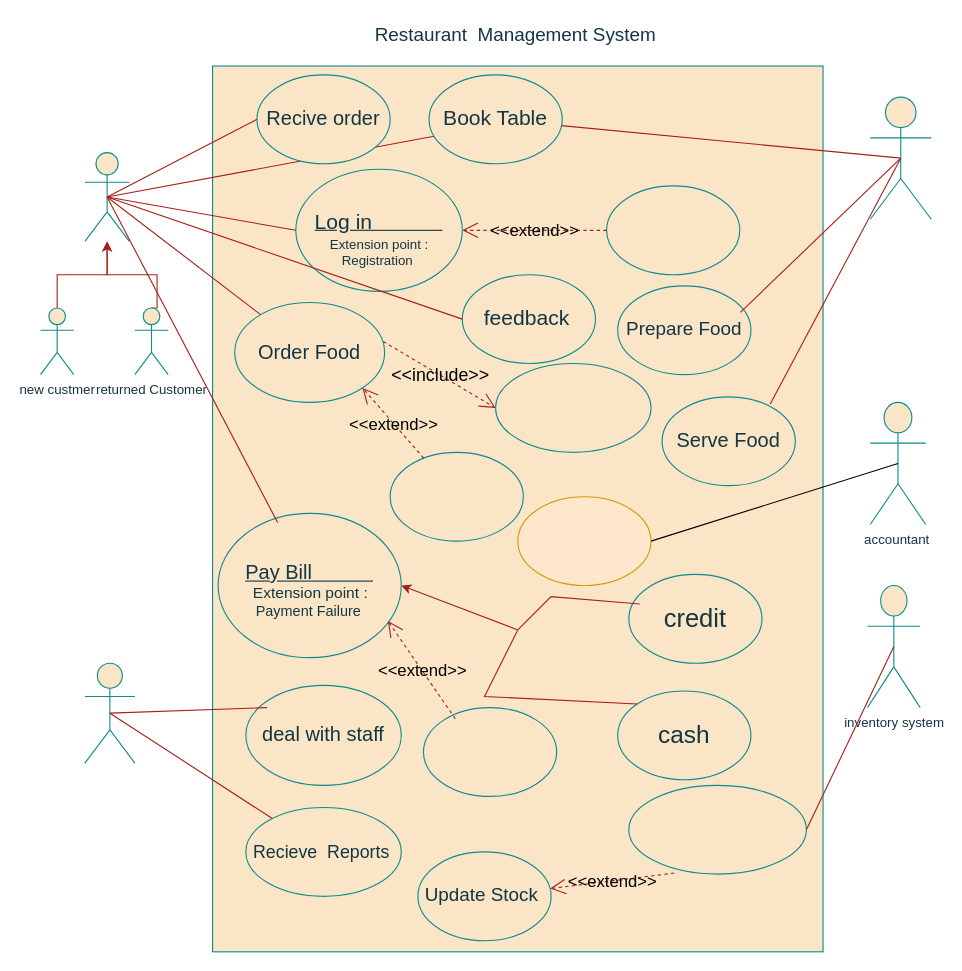
Some shapes in this 962 by 971 pixel diagram are drawn without their labels. Each missing label, with the centre of its shape:
"Customer" belongs at point (106, 196).
"Customize order" belongs at point (456, 496).
"Fail Payment" belongs at point (489, 751).
"Make invoices" belongs at point (584, 541).
"Manage Inventory" belongs at point (717, 829).
"Manager" belongs at point (109, 712).
"Register" belongs at point (673, 230).
"Select menu items" belongs at point (573, 407).
"Staff" belongs at point (900, 157).
